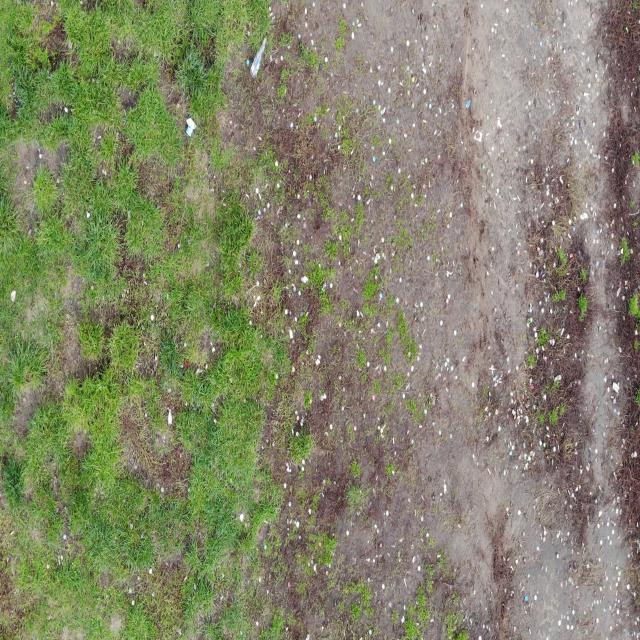rubbish: (248, 36, 268, 79), (184, 119, 198, 137), (167, 406, 173, 424)
